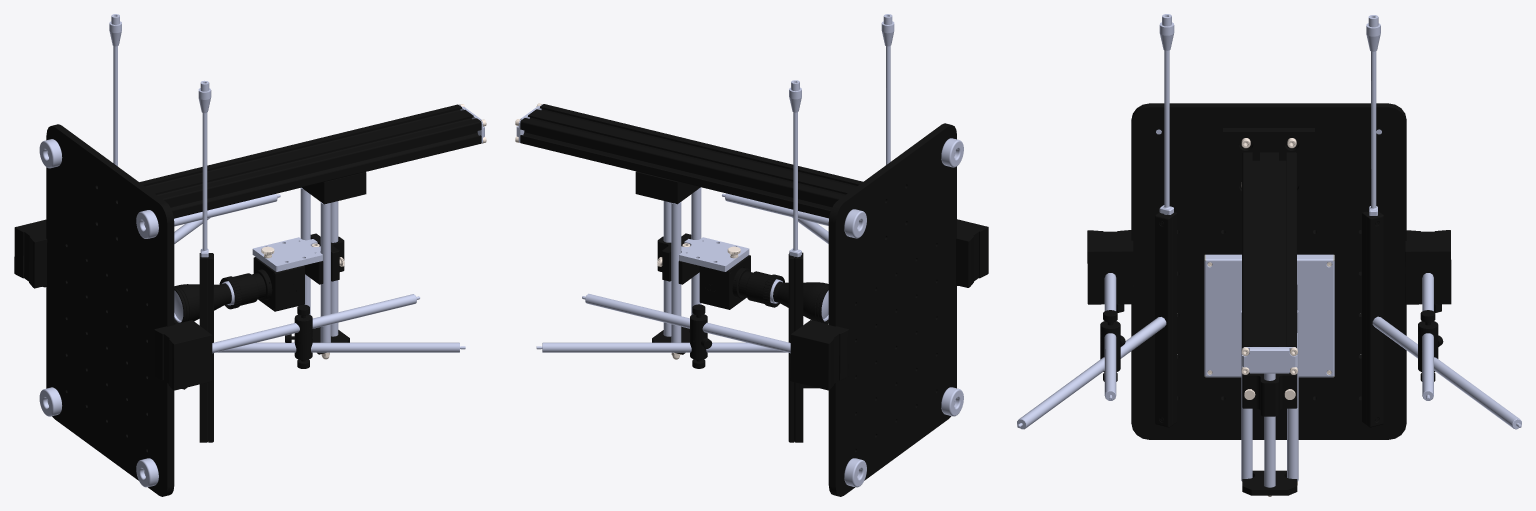
Rendered from MachineVisionPlaform1.FBX.
3 views of the same model, side by side, from view 1: azimuth 30°, elevation 25°; view 2: azimuth 150°, elevation 25°; view 3: azimuth 270°, elevation 25° (orthographic). The views are drawn at different scales.
Visible parts, largest first — view 1: 底板-1-solid1, 立柱-1/立柱-1-solid1, M6 螺纹孔002, 型材壳-1-solid1, 倒角005, 外壳-1-solid1, 倒角3, M6 螺纹孔003, 相机台-1-solid1, GCM-030105M支杆（203）-2-solid1, 立柱-1/云台-1-solid1, 接线-1-solid1 (+11 smaller); view 2: 底板-1-solid1, 立柱-1/立柱-1-solid1, M6 螺纹孔003, 型材壳-1-solid1, 倒角007, 外壳-1-solid004, 倒角006, M6 螺纹孔002, 相机台-1-solid1, GCM-030105M支杆（203）-1-solid1, 立柱-1/云台-1-solid1, 镜筒-1-solid1 (+11 smaller); view 3: 底板-1-solid1, 立柱-1/立柱-1-solid1, 外壳-1-solid003, 外壳-1-solid1, 外壳-1-solid004, 立柱-1/底座-1-solid1, M6 螺纹孔002, M6 螺纹孔003, 倒角005, 倒角007, 动块-1-solid1, 接线-1-solid1 (+10 smaller).
Part boxes in pixels (x1=…): 底板-1-solid1: x1=46, y1=124, x2=174, y2=496; 立柱-1/立柱-1-solid1: x1=139, y1=104, x2=481, y2=218; M6 螺纹孔002: x1=154, y1=320, x2=212, y2=390; 型材壳-1-solid1: x1=219, y1=257, x2=304, y2=311; 倒角005: x1=216, y1=342, x2=465, y2=352; 外壳-1-solid1: x1=199, y1=253, x2=213, y2=442; 倒角3: x1=212, y1=294, x2=419, y2=353; M6 螺纹孔003: x1=14, y1=219, x2=47, y2=288; 相机台-1-solid1: x1=252, y1=237, x2=322, y2=271; GCM-030105M支杆（203）-2-solid1: x1=320, y1=202, x2=330, y2=342; 立柱-1/云台-1-solid1: x1=302, y1=172, x2=366, y2=204; 接线-1-solid1: x1=198, y1=80, x2=211, y2=257; 底板-1-solid1: x1=828, y1=123, x2=956, y2=496; 立柱-1/立柱-1-solid1: x1=520, y1=104, x2=862, y2=218; M6 螺纹孔003: x1=790, y1=320, x2=848, y2=390; 型材壳-1-solid1: x1=699, y1=255, x2=785, y2=309; 倒角007: x1=536, y1=342, x2=786, y2=352; 外壳-1-solid004: x1=788, y1=252, x2=803, y2=442; 倒角006: x1=582, y1=293, x2=790, y2=353; M6 螺纹孔002: x1=956, y1=219, x2=988, y2=287; 相机台-1-solid1: x1=679, y1=237, x2=749, y2=271; GCM-030105M支杆（203）-1-solid1: x1=671, y1=202, x2=681, y2=342; 立柱-1/云台-1-solid1: x1=635, y1=171, x2=700, y2=204; 镜筒-1-solid1: x1=773, y1=281, x2=828, y2=323; 底板-1-solid1: x1=1131, y1=103, x2=1406, y2=439; 立柱-1/立柱-1-solid1: x1=1242, y1=152, x2=1296, y2=348; 外壳-1-solid003: x1=1204, y1=254, x2=1334, y2=377; 外壳-1-solid1: x1=1155, y1=212, x2=1176, y2=427; 外壳-1-solid004: x1=1362, y1=211, x2=1383, y2=427; 立柱-1/底座-1-solid1: x1=1223, y1=128, x2=1314, y2=198; M6 螺纹孔002: x1=1087, y1=230, x2=1133, y2=312; M6 螺纹孔003: x1=1405, y1=230, x2=1451, y2=312; 倒角005: x1=1017, y1=317, x2=1166, y2=429; 倒角007: x1=1372, y1=316, x2=1521, y2=429; 动块-1-solid1: x1=1242, y1=372, x2=1297, y2=416; 接线-1-solid1: x1=1159, y1=14, x2=1174, y2=214.
Size of the model in its own units: 545 by 540 by 550.
